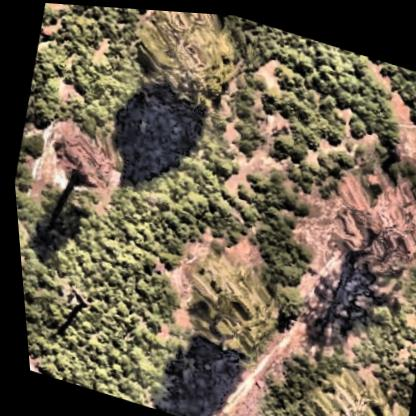tree-top: (302, 150, 416, 286), (118, 6, 262, 113), (166, 252, 285, 366), (40, 119, 125, 199), (291, 369, 405, 416)
